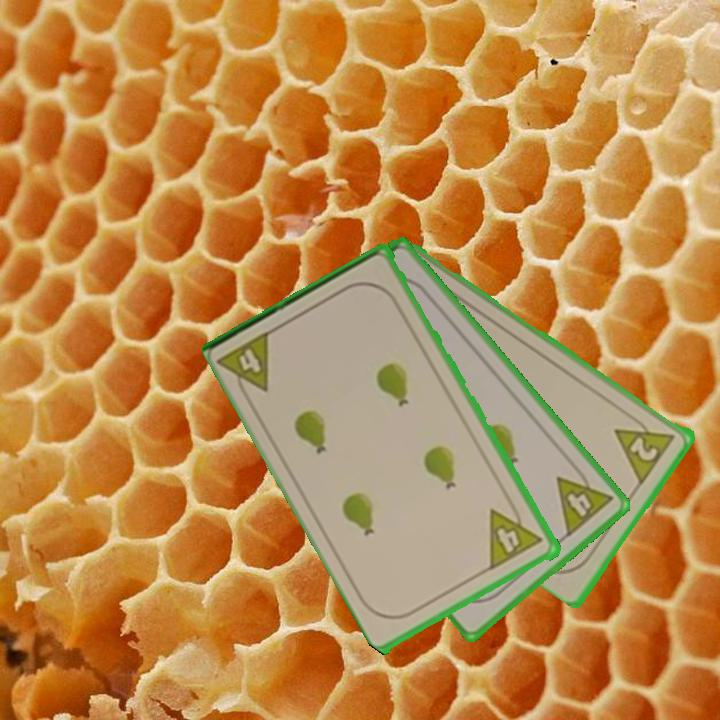2p: (611, 408, 679, 485)
4p: (553, 460, 617, 540), (216, 326, 276, 405), (486, 497, 547, 572)
